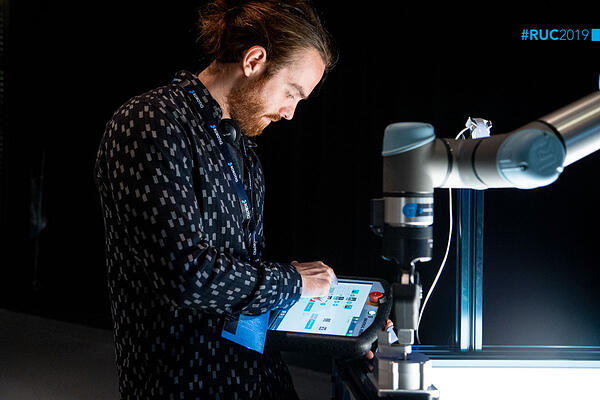person: (90, 1, 338, 400)
robot: (370, 87, 600, 347)
